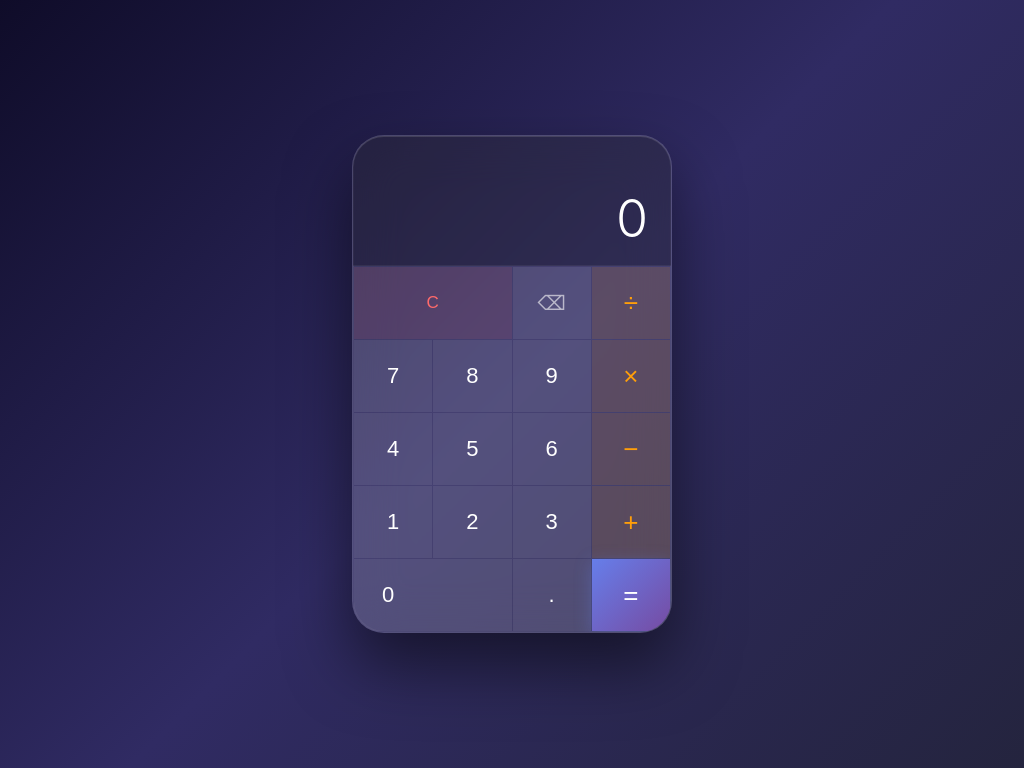
it: [INV-1] 0 나누기 방어 — UI 레벨 › 10 ÷ 0 → display-error에 "0으로 나눌 수 없습니다" 표시
Click the button "1".
click(393, 522)  # box x1=354 y1=486 x2=432 y2=558
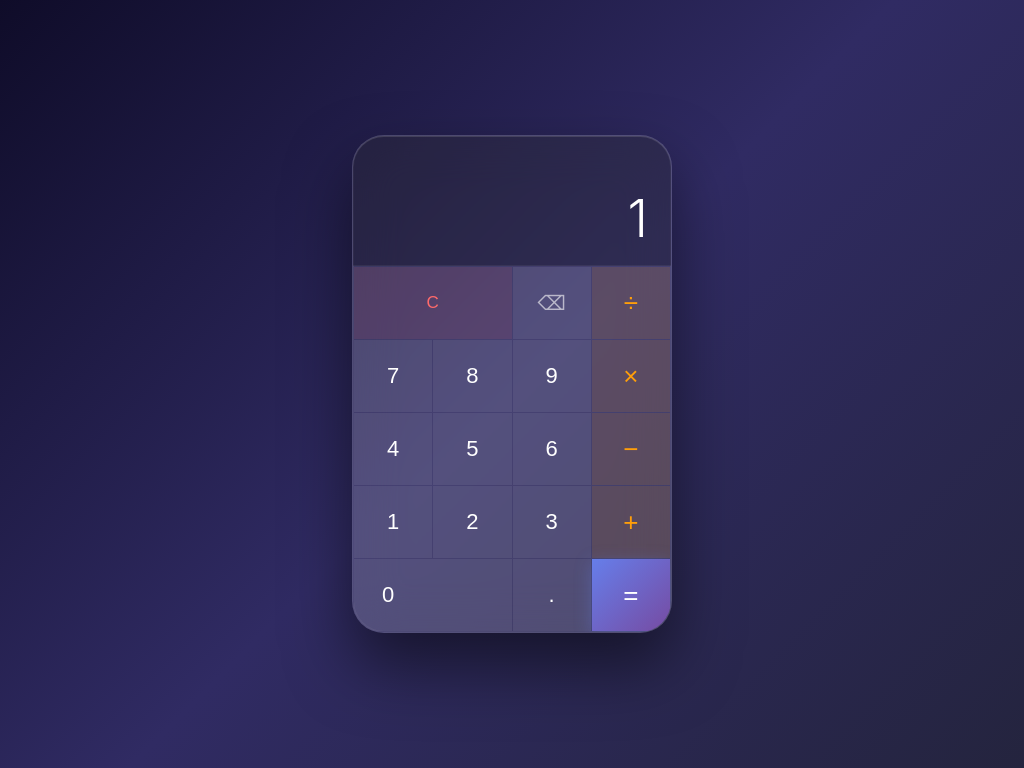
Click the button with test id "key-0".
click(433, 595)  # box x1=354 y1=559 x2=512 y2=631
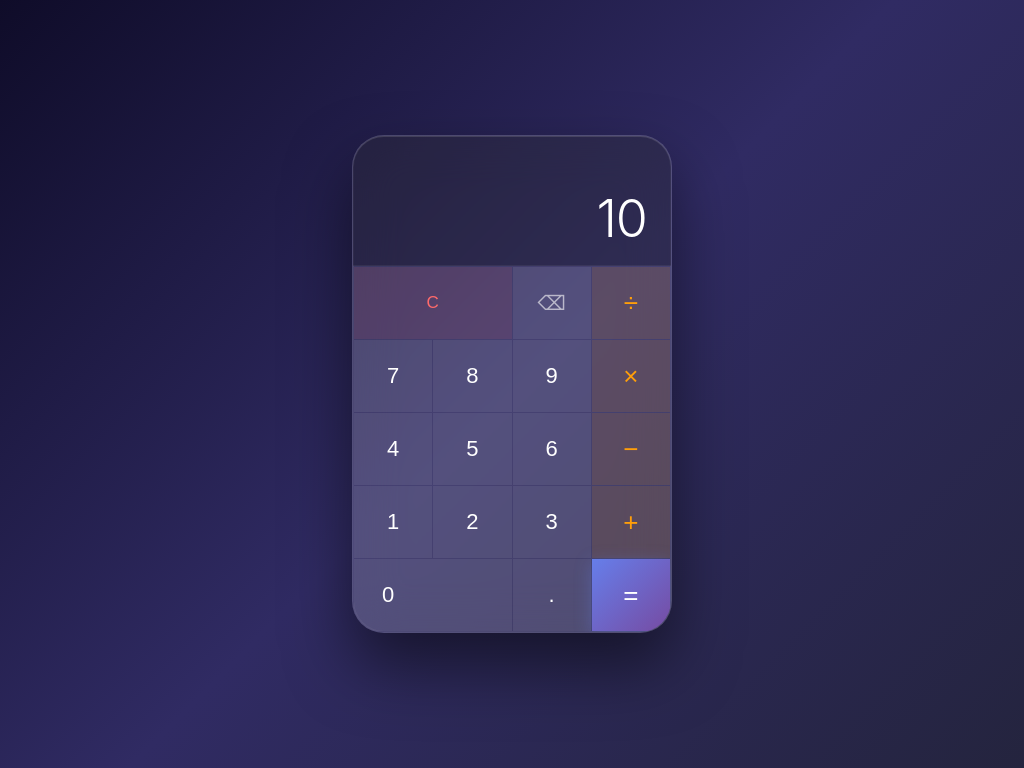
Click the button "÷".
click(631, 303)  # box x1=592 y1=267 x2=670 y2=339
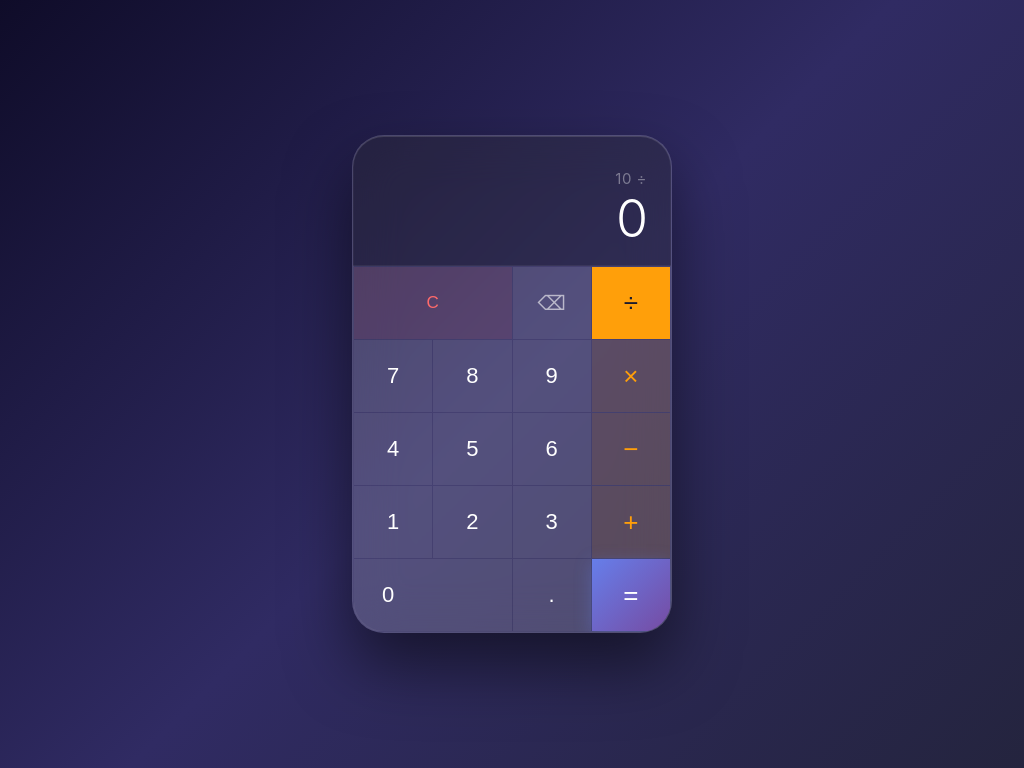
Click the button with test id "key-0".
click(433, 595)  # box x1=354 y1=559 x2=512 y2=631
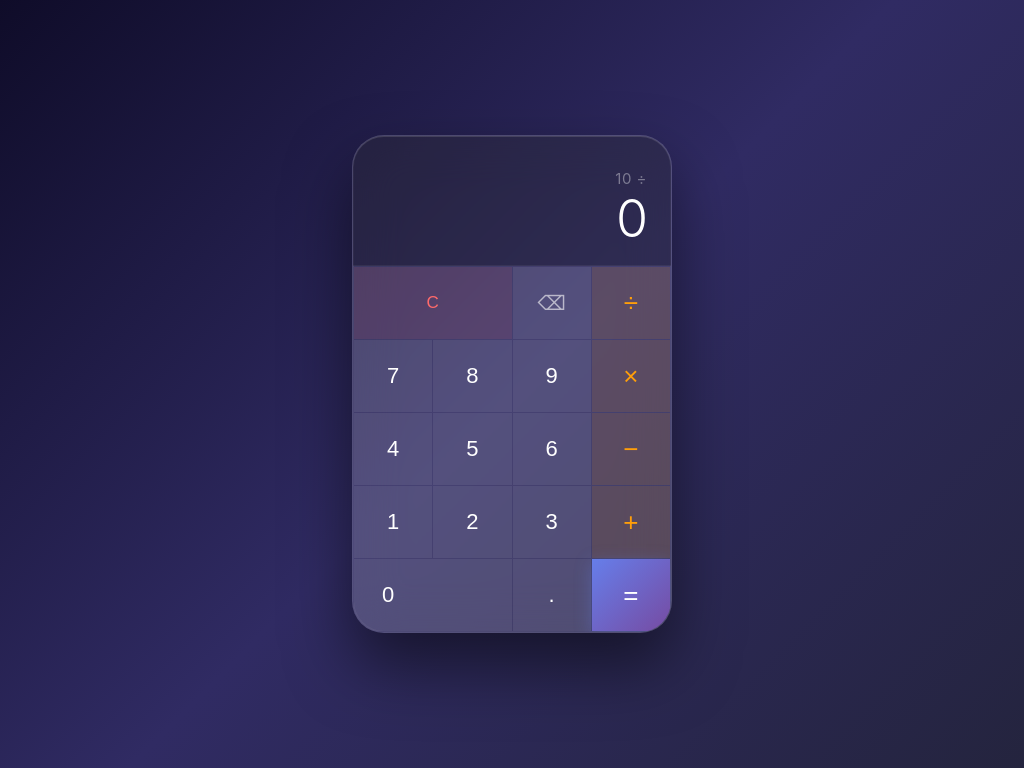
Click the button with test id "key-equals".
click(631, 595)  # box x1=592 y1=559 x2=670 y2=631
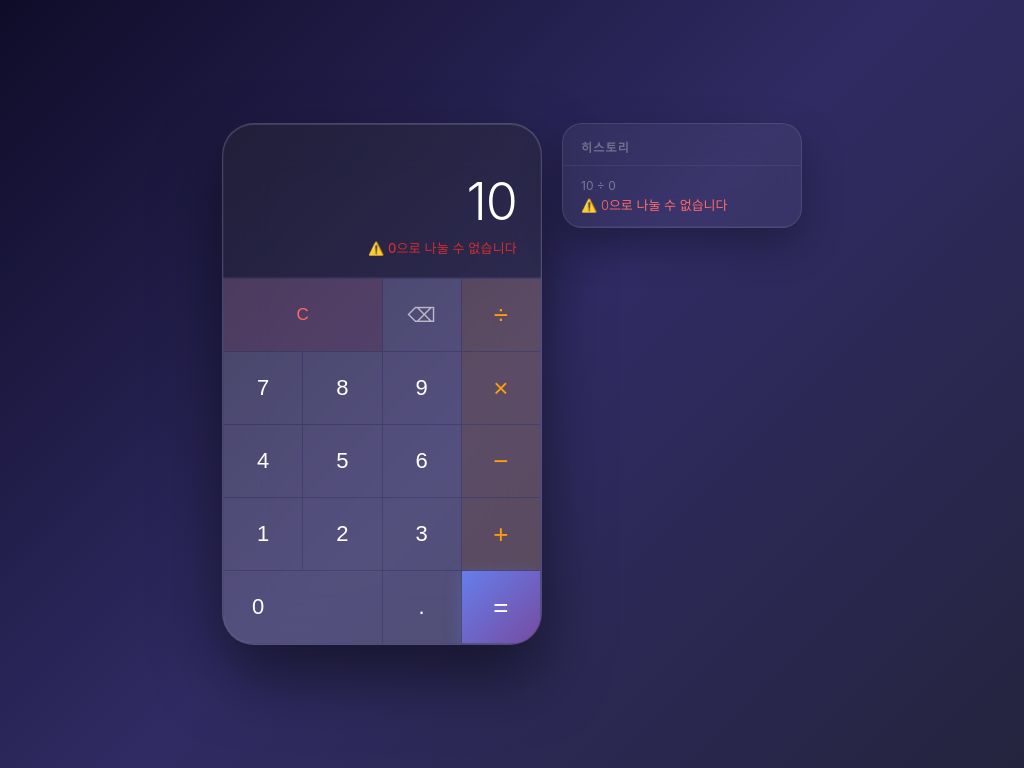
Expected: the text with test id "display-error" shows "0으로 나눌 수 없습니다", x1=388 y1=240 x2=517 y2=256
